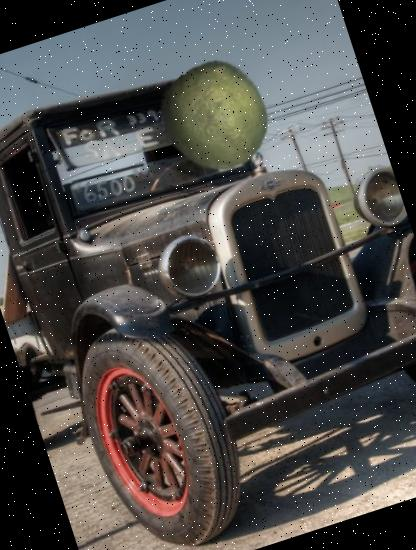Limes: (147, 47, 287, 187)
